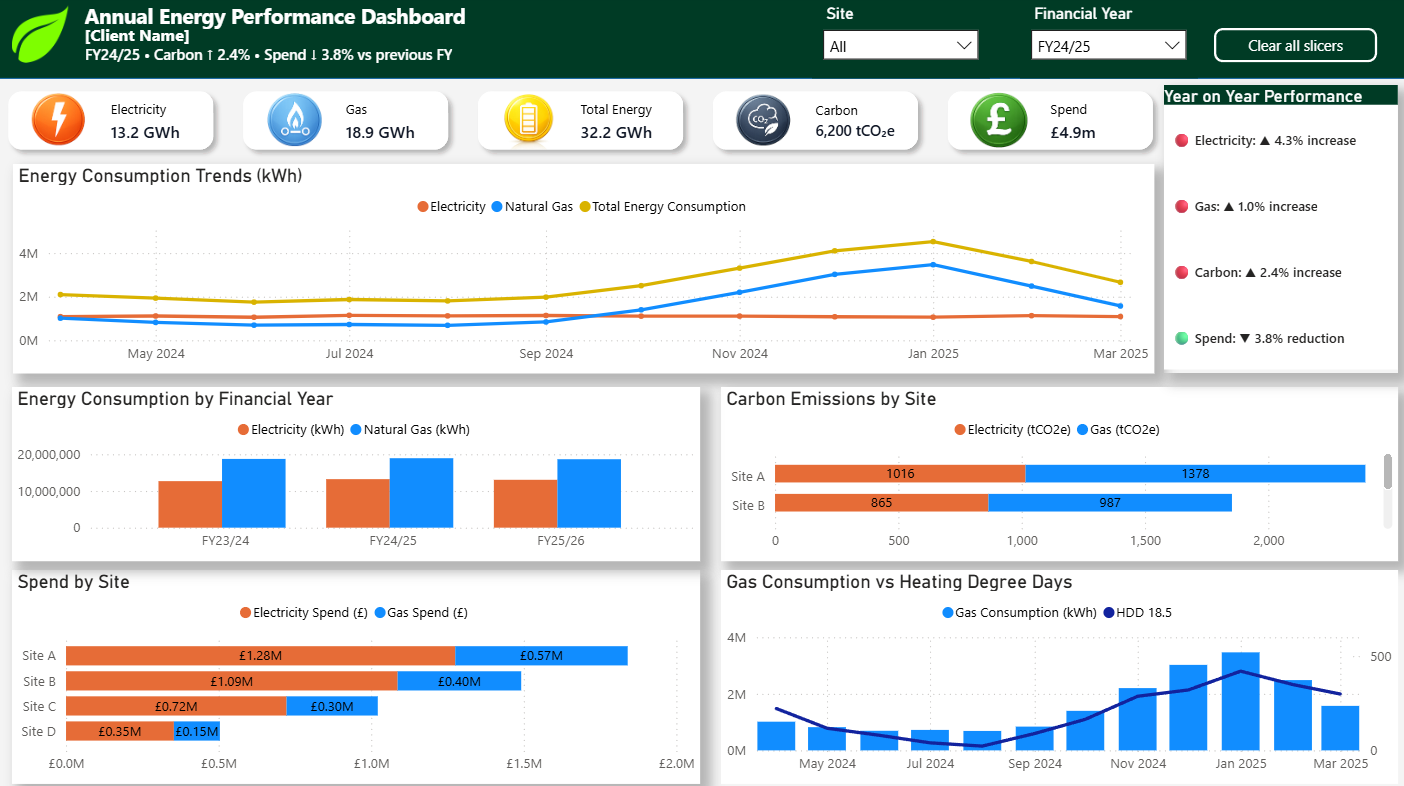

The page's visual inventory and layout, read from the dashboard file:
{"tool":"powerbi","page":{"name":"Energy Performance Dashboard","canvas":[1280,720],"ordinal":0},"visuals":[{"type":"cardVisual","fields":{"Data":["Site_Summary.Electricity KPI","Site_Summary.Gas KPI","Site_Summary.Total Energy KPI","Site_Summary.Carbon KPI","Site_Summary.Spend KPI"]},"box":[0,74.5,1063.2,77.9],"z":0},{"type":"lineChart","title":"Energy Consumption Trends (kWh)","fields":{"Y":["Sum(Site_Summary.Electricity (kWh))","Sum(Site_Summary.Gas (kWh))","Site_Summary.Total Energy Consumption (kWh)"],"Category":["DateTable.Date"]},"box":[16,152.4,1035.2,189.9],"z":1000},{"type":"barChart","title":"Carbon Emissions by Site","fields":{"Category":["Site_Summary.Site"],"Y":["Sum(Site_Summary.Electricity (tCO2e))","Sum(Site_Summary.Gas (tCO2e))"]},"box":[658.5,354.4,613.7,157.6],"z":2000},{"type":"barChart","title":"Spend by Site","fields":{"Category":["Site_Summary.Site"],"Y":["Sum(Site_Summary.Electricity Spend (£))","Sum(Site_Summary.Gas Spend (£))"]},"box":[15.6,520.8,624.4,193.6],"z":3000},{"type":"clusteredColumnChart","title":"Energy Consumption by Financial Year","fields":{"Y":["Sum(Site_Summary.Electricity (kWh))","Sum(Site_Summary.Gas (kWh))"],"Category":["DateTable.FY"]},"box":[15.6,354.4,624.4,157.6],"z":4000},{"type":"shape","box":[0,0,1280.4,75.3],"z":5000},{"type":"textbox","box":[75.9,0,616.5,36],"z":6000},{"type":"slicer","fields":{"Values":["Site_Summary.Site"]},"box":[740.9,2.7,160.5,71.6],"z":8000},{"type":"slicer","fields":{"Values":["DateTable.FY"]},"box":[929.5,2.7,160.5,71.6],"z":9000},{"type":"image","box":[15.6,2.9,50.6,64.2],"z":10000},{"type":"lineStackedColumnComboChart","title":"Gas Consumption vs Heating Degree Days","fields":{"Category":["DateTable.Date"],"Y":["Sum(Site_Summary.Gas (kWh))"],"Y2":["Avg(HDD_18 5C.HDD 18.5)"]},"box":[658.5,520.8,613.7,193.6],"z":11000},{"type":"actionButton","box":[1105.1,29,147.9,31],"z":12000},{"type":"cardVisual","title":"Year on Year Performance","fields":{"Data":["Site_Summary.Electricity Insight","Site_Summary.Gas Insight","Site_Summary.Carbon Insight","Site_Summary.Spend Insight"]},"box":[1060.2,81.1,212,260.7],"z":13000},{"type":"textbox","box":[75.9,20,299.8,31],"z":14000},{"type":"cardVisual","fields":{"Data":["Site_Summary.Executive Summary"]},"box":[52.5,24.3,620.5,55.4],"z":14001}]}

Visuals, with their boxes in screenshot pixels (x1, y1, x2, y2), scaled from the page's 1280x720 canvas onto the 1404x786 screenshot:
cardVisual - Site_Summary.Electricity KPI x Site_Summary.Gas KPI: locate(0, 81, 1166, 166)
"Energy Consumption Trends (kWh)" lineChart: locate(18, 166, 1153, 374)
"Carbon Emissions by Site" barChart: locate(722, 387, 1395, 559)
"Spend by Site" barChart: locate(17, 569, 702, 780)
"Energy Consumption by Financial Year" clusteredColumnChart: locate(17, 387, 702, 559)
shape: locate(0, 0, 1403, 82)
textbox: locate(83, 0, 759, 39)
slicer - Site_Summary.Site: locate(813, 3, 989, 81)
slicer - DateTable.FY: locate(1020, 3, 1196, 81)
image: locate(17, 3, 73, 73)
"Gas Consumption vs Heating Degree Days" lineStackedColumnComboChart: locate(722, 569, 1395, 780)
actionButton: locate(1212, 32, 1374, 66)
"Year on Year Performance" cardVisual: locate(1163, 89, 1395, 373)
textbox: locate(83, 22, 412, 56)
cardVisual - Site_Summary.Executive Summary: locate(58, 27, 738, 87)
